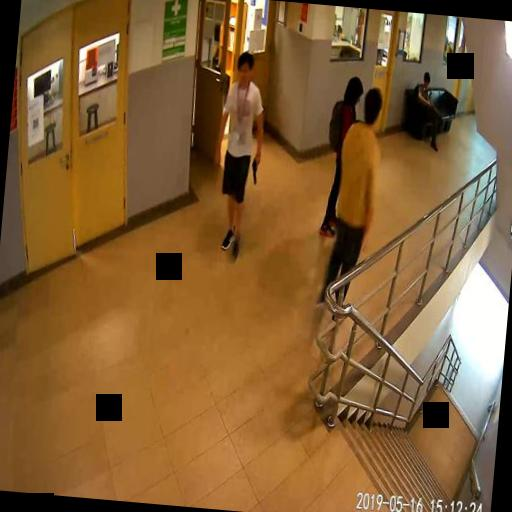Handgun: (249, 153, 260, 184)
